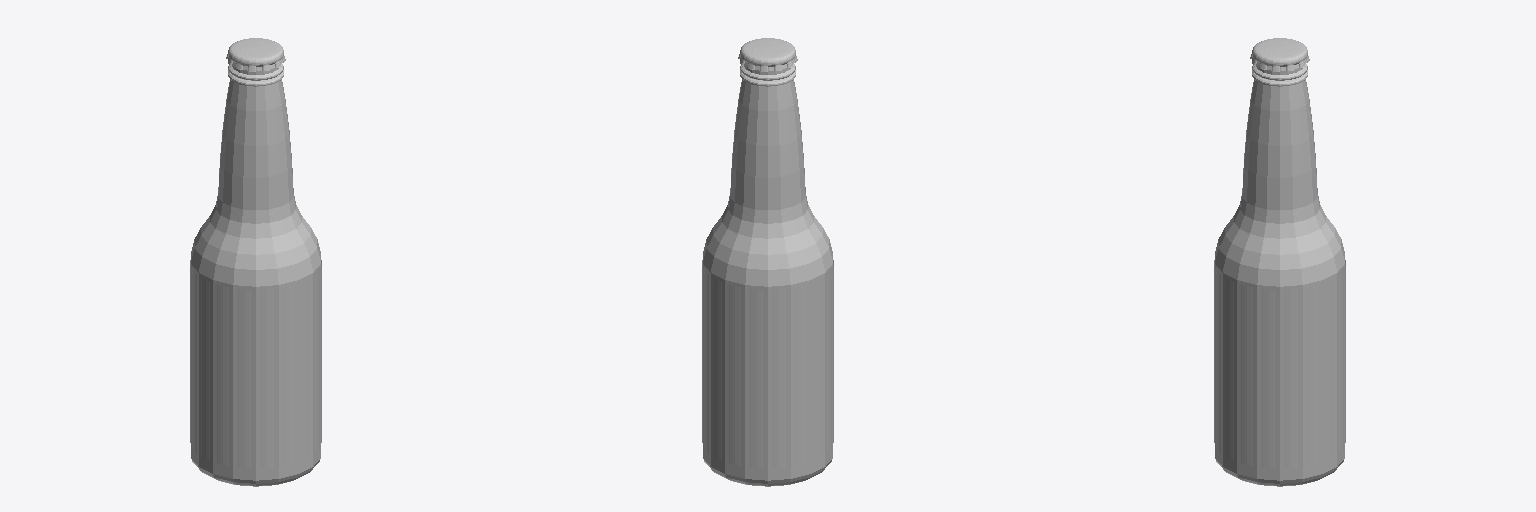
Rendered from Corona.obj.
3 views of the same model, side by side, from view 1: azimuth 30°, elevation 25°; view 2: azimuth 150°, elevation 25°; view 3: azimuth 270°, elevation 25° (orthographic).
Parts seen in each view (by area): view 1: bottle, logo, cover; view 2: bottle, logo, cover; view 3: bottle, logo, cover.
Boxes of the visible parts, x1=… form: bottle: x1=191, y1=64, x2=320, y2=486; logo: x1=190, y1=260, x2=321, y2=467; cover: x1=226, y1=38, x2=285, y2=71; bottle: x1=703, y1=64, x2=832, y2=486; logo: x1=702, y1=260, x2=833, y2=467; cover: x1=738, y1=38, x2=797, y2=71; bottle: x1=1215, y1=64, x2=1344, y2=486; logo: x1=1214, y1=260, x2=1345, y2=467; cover: x1=1250, y1=38, x2=1309, y2=71.
Bounding box in the file's own units: 11.1 × 38.49 × 11.